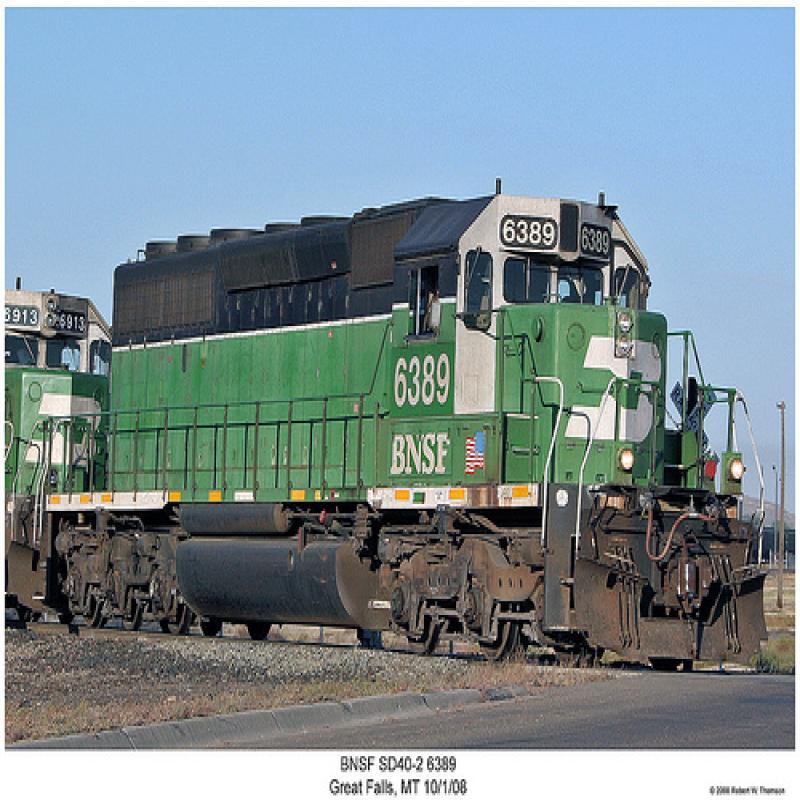train: (3, 179, 776, 681)
